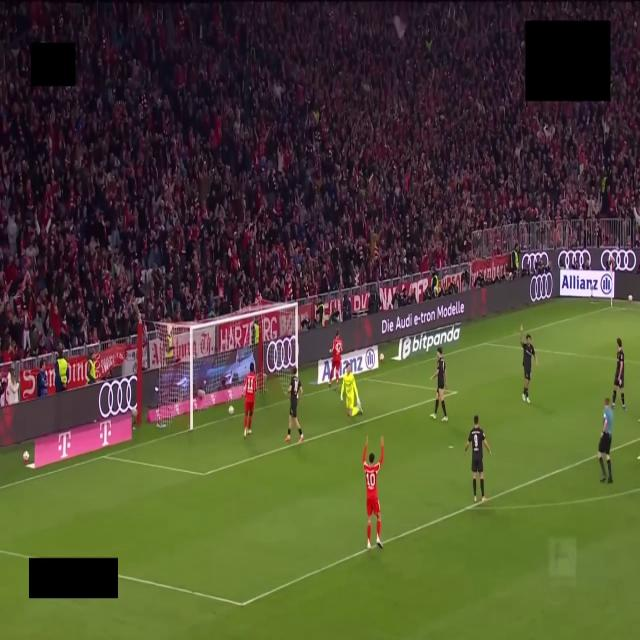ball: (228, 406, 234, 415)
player: (363, 437, 383, 549), (465, 416, 491, 502), (520, 326, 537, 403), (286, 370, 303, 442), (431, 348, 447, 422), (341, 364, 362, 417), (243, 362, 257, 437), (612, 338, 625, 410), (329, 330, 342, 386)
referee: (598, 399, 613, 483)
